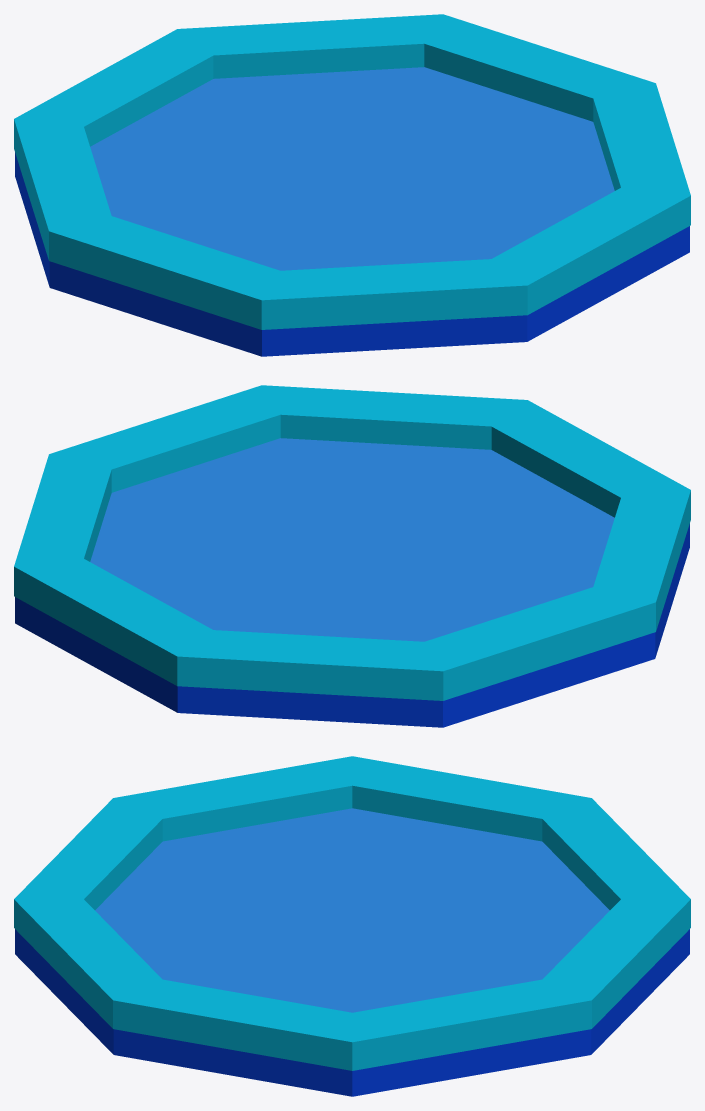
Rendered from baseStateColor.fbx.
3 renders of one model, top to bottom at view 1: azimuth 30°, elevation 25°; view 2: azimuth 150°, elevation 25°; view 3: azimuth 270°, elevation 25°, orthographic. The views are drawn at different scales.
Visible parts, largest first — view 1: Cylinder, Cylinder.001; view 2: Cylinder, Cylinder.001; view 3: Cylinder, Cylinder.001.
Boxes of the visible parts, box(x1,y1,x2,y2) form: Cylinder: box(14, 14, 690, 329); Cylinder.001: box(15, 152, 689, 356); Cylinder: box(14, 385, 690, 700); Cylinder.001: box(15, 523, 689, 727); Cylinder: box(14, 756, 690, 1070); Cylinder.001: box(15, 929, 689, 1096).
Size of the model in its own units: 158 by 14.13 by 158.
